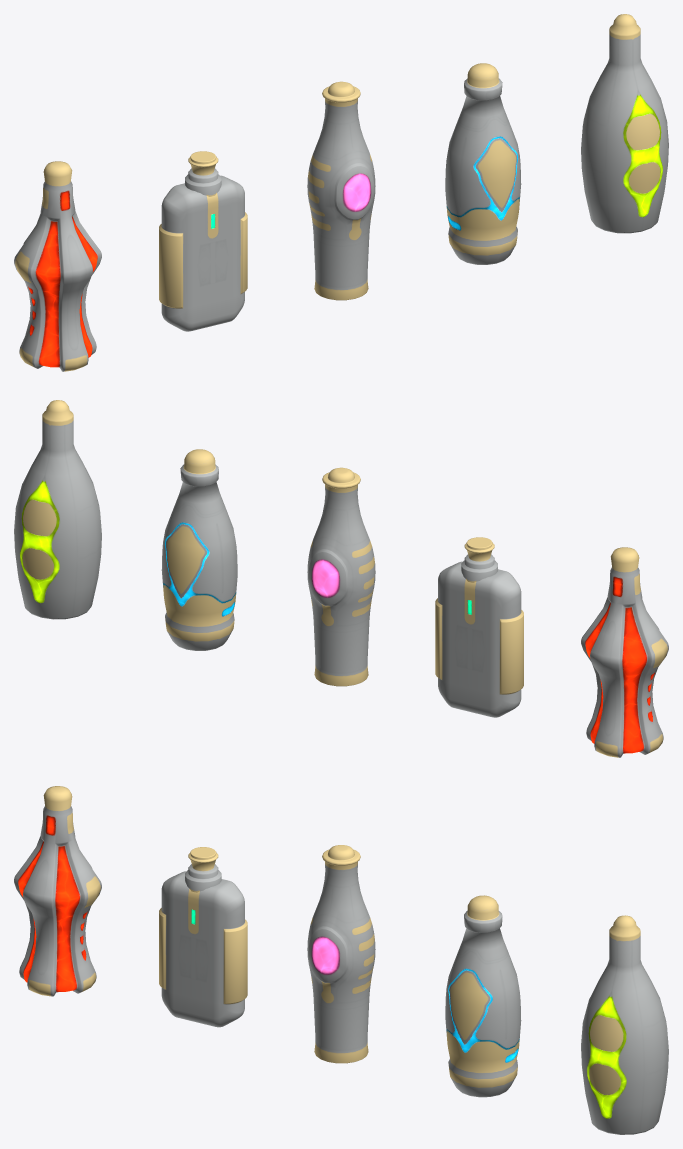
The model's file is BarBottles02_2.FBX.
3 views of the same model, one above another, from view 1: azimuth 30°, elevation 25°; view 2: azimuth 150°, elevation 25°; view 3: azimuth 330°, elevation 25° (orthographic).
Visible parts, largest first — view 1: BarBottles02_2; view 2: BarBottles02_2; view 3: BarBottles02_2.
Boxes of the visible parts, <box> form: BarBottles02_2: <box>14,14,668,371</box>; BarBottles02_2: <box>14,400,668,757</box>; BarBottles02_2: <box>14,786,668,1134</box>.
Size of what is drawn, in the model's own units: 1.09 by 0.3307 by 0.1306.
